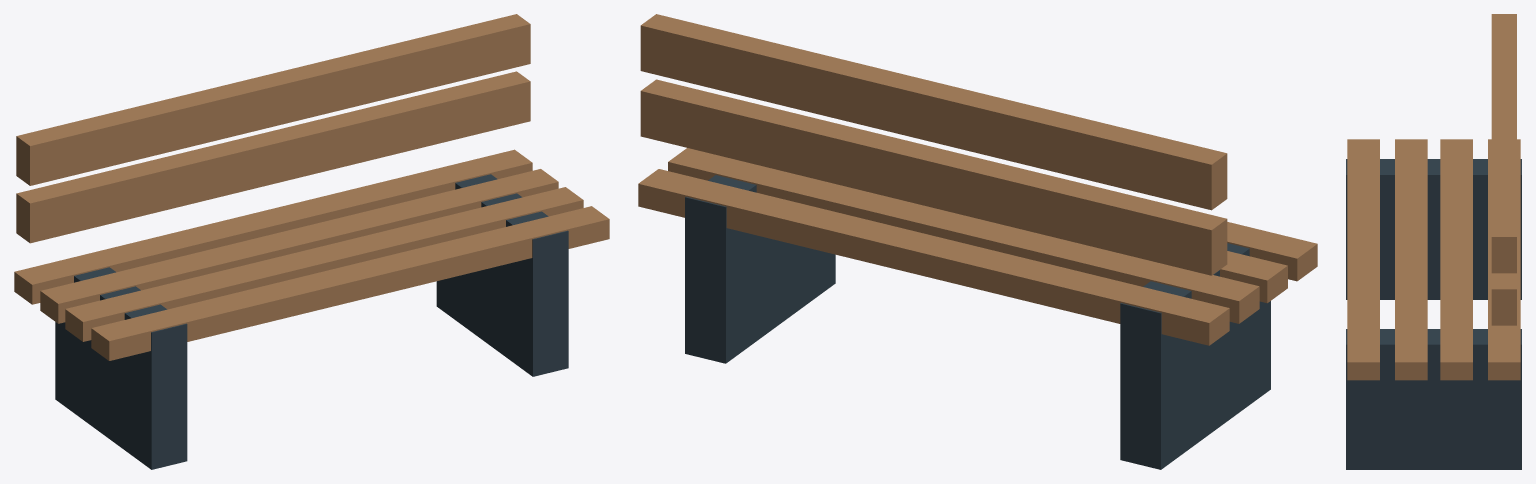
The model's file is Bench.fbx.
3 renders of one model, left to right at view 1: azimuth 30°, elevation 25°; view 2: azimuth 150°, elevation 25°; view 3: azimuth 270°, elevation 25°, orthographic. The views are drawn at different scales.
Parts seen in each view (by area): view 1: Bench.016; view 2: Bench.016; view 3: Bench.016.
Boxes of the visible parts, x1,y1,x2,y2 form: Bench.016: (14,14,609,469); Bench.016: (638,14,1317,469); Bench.016: (1346,14,1521,469).
Bounding box in the file's own units: 2.1 × 1.11 × 0.7.
